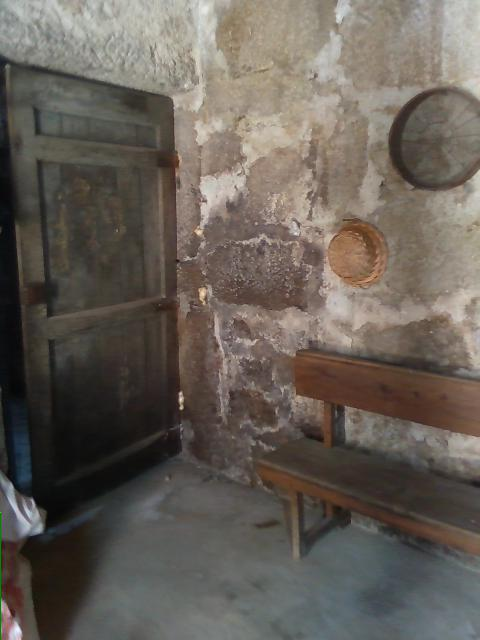door: (0, 52, 184, 546)
